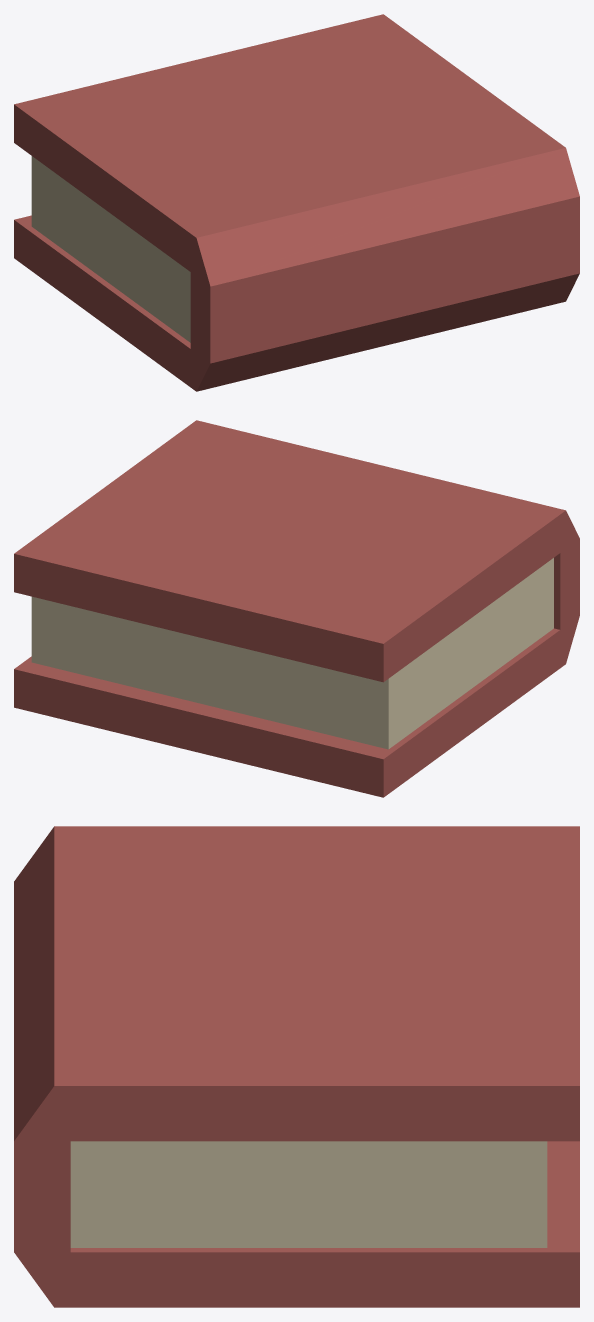
Rendered from msh_book_02.fbx.
The picture shows the model from 3 angles, top to bottom: view 1: azimuth 30°, elevation 25°; view 2: azimuth 150°, elevation 25°; view 3: azimuth 270°, elevation 25°; orthographic projection. The views are drawn at different scales.
Visible parts, largest first — view 1: msh_book_02; view 2: msh_book_02; view 3: msh_book_02.
Part boxes in pixels (left/top/right/bottom): msh_book_02: left=14, top=14, right=579, bottom=391; msh_book_02: left=14, top=420, right=579, bottom=797; msh_book_02: left=14, top=826, right=579, bottom=1307.
Bounding box in the file's own units: 33.79 × 13.44 × 31.12.
